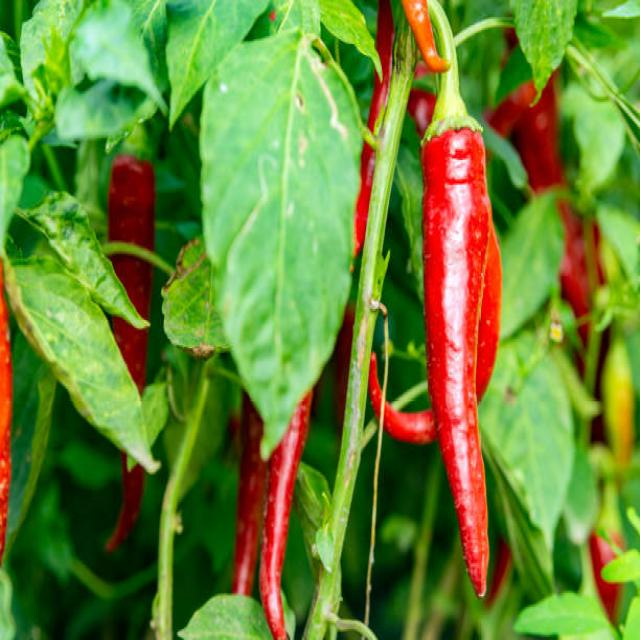Ripe: (421, 3, 501, 595), (258, 392, 313, 635), (402, 0, 449, 72), (383, 400, 435, 442), (369, 351, 381, 417)
